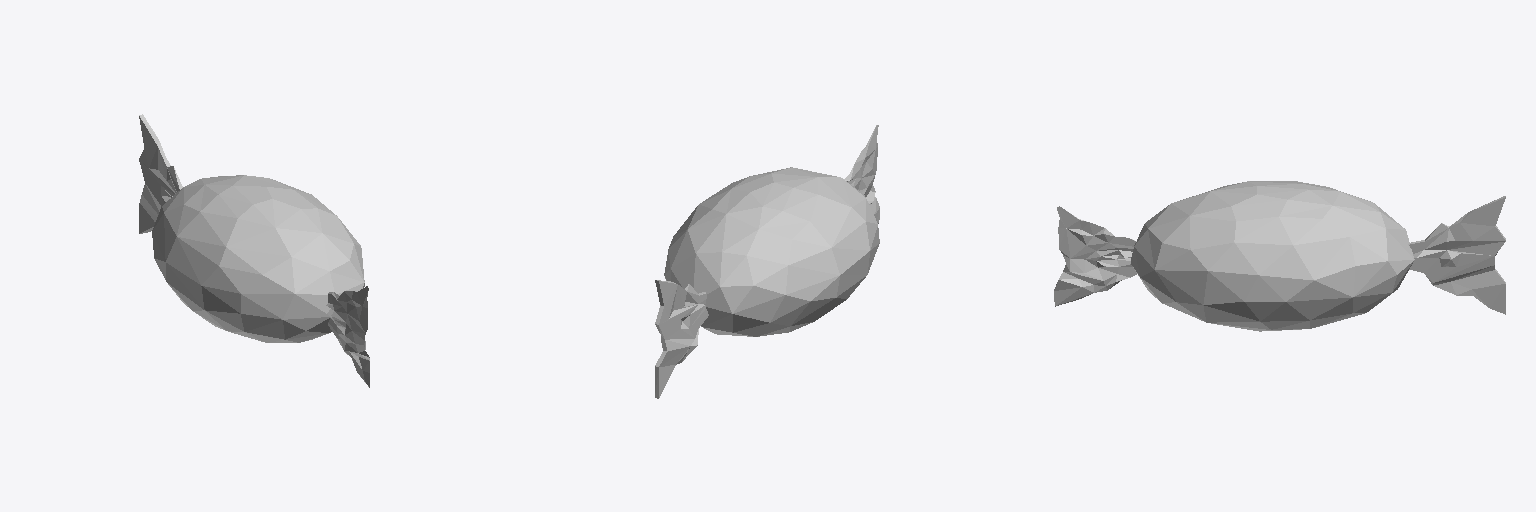
Rendered from simple_candy.obj.
3 renders of one model, left to right at view 1: azimuth 30°, elevation 25°; view 2: azimuth 150°, elevation 25°; view 3: azimuth 270°, elevation 25°, orthographic.
Visible parts, largest first — view 1: Sphere, Plane.001, Plane.002_Plane.001; view 2: Sphere, Plane.001, Plane.002_Plane.001; view 3: Sphere, Plane.001, Plane.002_Plane.001.
Boxes of the visible parts, <box> form: Sphere: <box>152,175,364,342</box>; Plane.001: <box>139,114,182,233</box>; Plane.002_Plane.001: <box>326,286,369,387</box>; Sphere: <box>664,167,879,336</box>; Plane.001: <box>655,280,708,398</box>; Plane.002_Plane.001: <box>844,125,879,223</box>; Sphere: <box>1131,181,1414,331</box>; Plane.001: <box>1408,196,1505,314</box>; Plane.002_Plane.001: <box>1054,206,1136,306</box>.
Bounding box in the file's own units: 2.89 × 2.18 × 6.97.